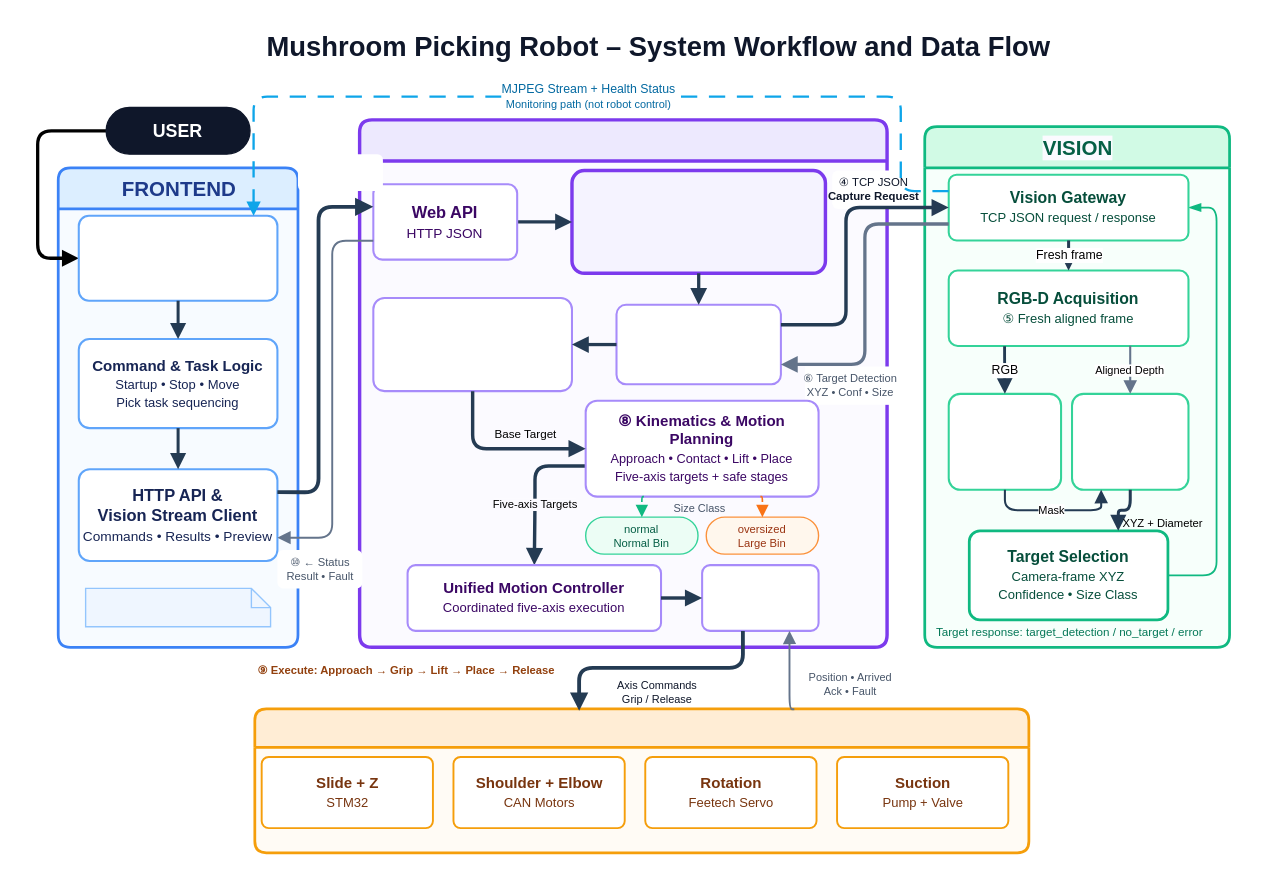
Some shapes in this 1266 by 896 pixel diagram are drawn without their labels. The shapes that lost their labels are listed below. From the top down, each one's box as (x1, y1, x2, y2) in pixels, then its label:
(297, 153, 382, 190): ② HTTP JSON Commands
(570, 168, 827, 274): Task Controller ③ Orchestrate workflow Move to scan position
(77, 214, 278, 301): Control & Monitoring UI ① Pick One / Pick All Robot & task status
(372, 296, 572, 392): ⑦ Coordinate Transform Camera XYZ + axis snapshot → Base-frame target
(615, 303, 781, 385): Vision Interface Fresh capture Target response
(357, 118, 888, 648): BACKEND
(947, 392, 1061, 490): Mushroom Segmentation Instance Mask
(1070, 392, 1189, 490): Depth & 3D Geometry XYZ + Diameter
(84, 587, 271, 627): Pick All = Frontend repeats Pick One
(700, 563, 819, 631): Hardware Drivers
(253, 707, 1030, 854): ROBOT HARDWARE
